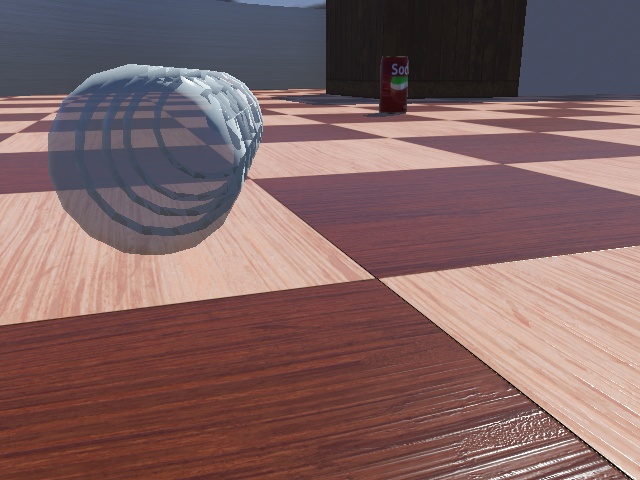chai_nhua: (48, 64, 266, 256)
lon_nuoc: (378, 56, 408, 115)
